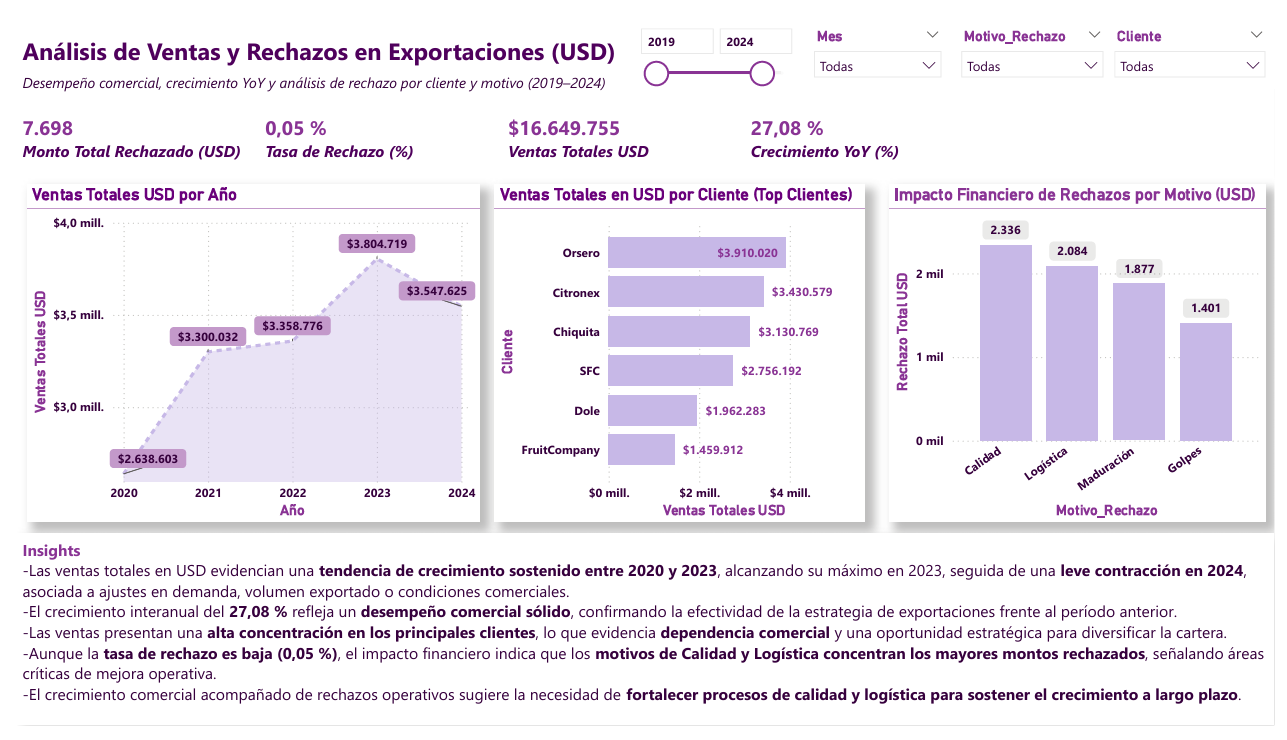

The dashboard page shown, as its layout file describes it:
{"tool":"powerbi","page":{"name":"Página 1","canvas":[1280,720],"ordinal":0},"visuals":[{"type":"multiRowCard","fields":{"Values":["exportaciones_finanzas.Rechazo Total USD","exportaciones_finanzas.% Rechazo","exportaciones_finanzas.Ventas Totales USD","exportaciones_finanzas.Crecimiento YoY %"]},"box":[0,92,999,63],"z":0},{"type":"lineChart","fields":{"Y":["exportaciones_finanzas.Ventas Totales USD"],"Category":["Dim_Fecha.Año"]},"box":[10.5,168.9,460.8,344.3],"z":1000},{"type":"clusteredBarChart","title":"Ventas Totales en USD por Cliente (Top Clientes)","fields":{"Category":["exportaciones_finanzas.Cliente"],"Y":["exportaciones_finanzas.Ventas Totales USD"]},"box":[485.7,168.9,377,344.3],"z":2000},{"type":"columnChart","title":"Impacto Financiero de Rechazos por Motivo (USD)","fields":{"Category":["exportaciones_finanzas.Motivo_Rechazo"],"Y":["exportaciones_finanzas.Rechazo Total USD"]},"box":[887.6,168.9,383.6,344.3],"z":3000},{"type":"slicer","fields":{"Values":["Dim_Fecha.Año"]},"box":[621.7,0,179.3,77],"z":4000},{"type":"slicer","fields":{"Values":["exportaciones_finanzas.Motivo_Rechazo"]},"box":[951.1,5.3,164.7,66.4],"z":5000},{"type":"slicer","fields":{"Values":["exportaciones_finanzas.Cliente"]},"box":[1106.6,5.3,174,66.4],"z":6000},{"type":"slicer","fields":{"Values":["Dim_Fecha.Mes"]},"box":[801,5.3,150.1,66.4],"z":7000},{"type":"textbox","box":[0,10.6,621.7,45.2],"z":8000},{"type":"textbox","box":[0,50.5,621.7,41.2],"z":9000},{"type":"textbox","box":[0,524.9,1280.3,195.1],"z":10000}]}

Visuals, with their boxes in screenshot pixels (x1, y1, x2, y2), scaled from the page's 1280x720 canvas onto the 1287x740 screenshot:
multiRowCard - exportaciones_finanzas.Rechazo Total USD x exportaciones_finanzas.% Rechazo: [0, 95, 1004, 159]
lineChart - exportaciones_finanzas.Ventas Totales USD x Dim_Fecha.Año: [11, 174, 474, 527]
"Ventas Totales en USD por Cliente (Top Clientes)" clusteredBarChart: [488, 174, 867, 527]
"Impacto Financiero de Rechazos por Motivo (USD)" columnChart: [892, 174, 1278, 527]
slicer - Dim_Fecha.Año: [625, 0, 805, 79]
slicer - exportaciones_finanzas.Motivo_Rechazo: [956, 5, 1122, 74]
slicer - exportaciones_finanzas.Cliente: [1113, 5, 1286, 74]
slicer - Dim_Fecha.Mes: [805, 5, 956, 74]
textbox: [0, 11, 625, 57]
textbox: [0, 52, 625, 94]
textbox: [0, 539, 1286, 739]
